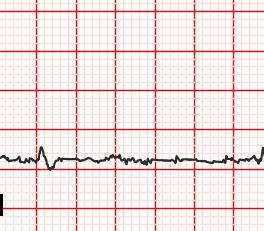Poor R Progression: (32, 140, 48, 163)
